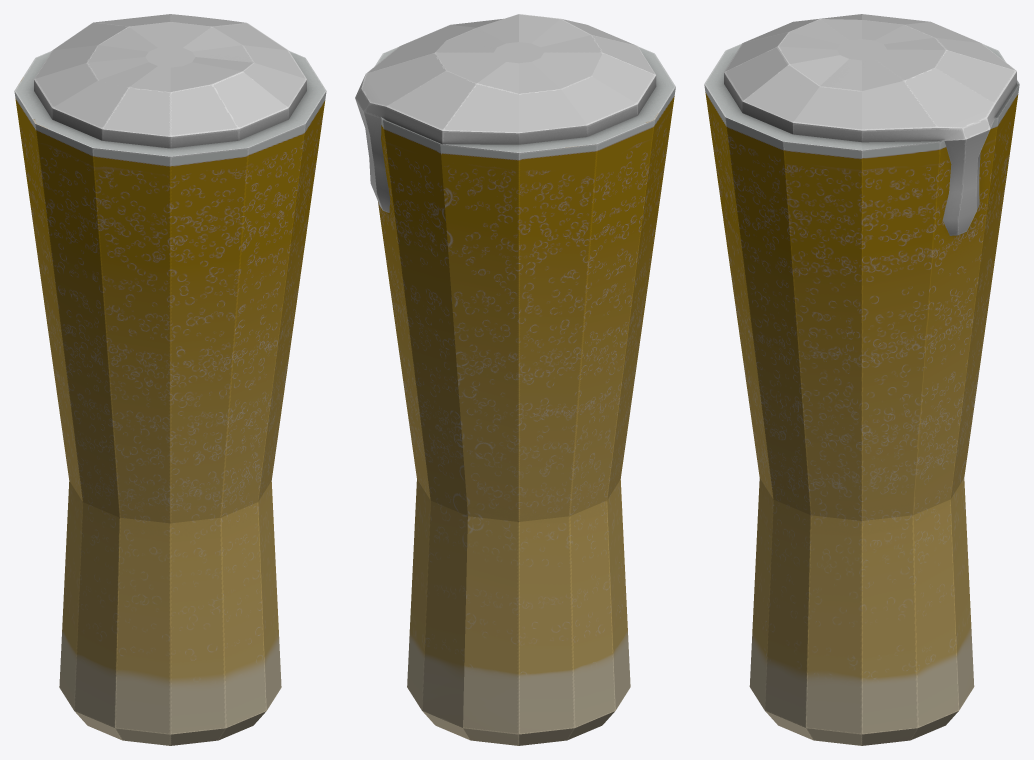
File: GlassOfBeer.obj
3 views of the same model, side by side, from view 1: azimuth 30°, elevation 25°; view 2: azimuth 150°, elevation 25°; view 3: azimuth 270°, elevation 25° (orthographic).
Parts seen in each view (by area): view 1: GlassOfBeer_mesh; view 2: GlassOfBeer_mesh; view 3: GlassOfBeer_mesh.
Part boxes in pixels (<box>): GlassOfBeer_mesh: <box>14,14,326,745</box>; GlassOfBeer_mesh: <box>355,14,675,745</box>; GlassOfBeer_mesh: <box>704,14,1019,745</box>.
Size of the model in its own units: 2.58 by 5.93 by 2.58.
Materials: 1 (1 with a texture image).
